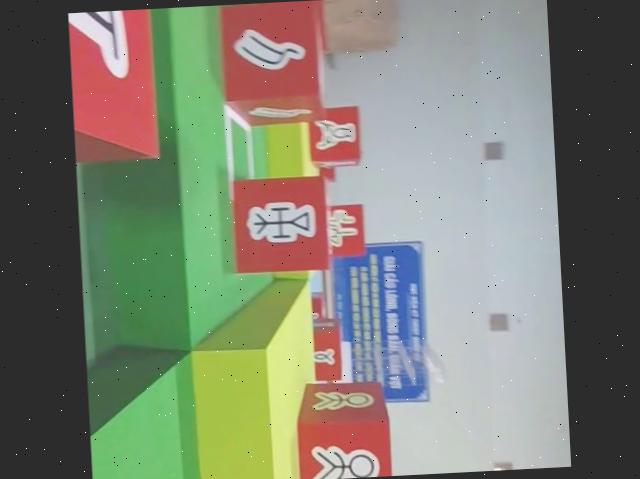R2 Real: (68, 9, 165, 164), (217, 0, 330, 128), (289, 376, 396, 479), (228, 173, 333, 277), (305, 103, 365, 171), (316, 200, 370, 260)
